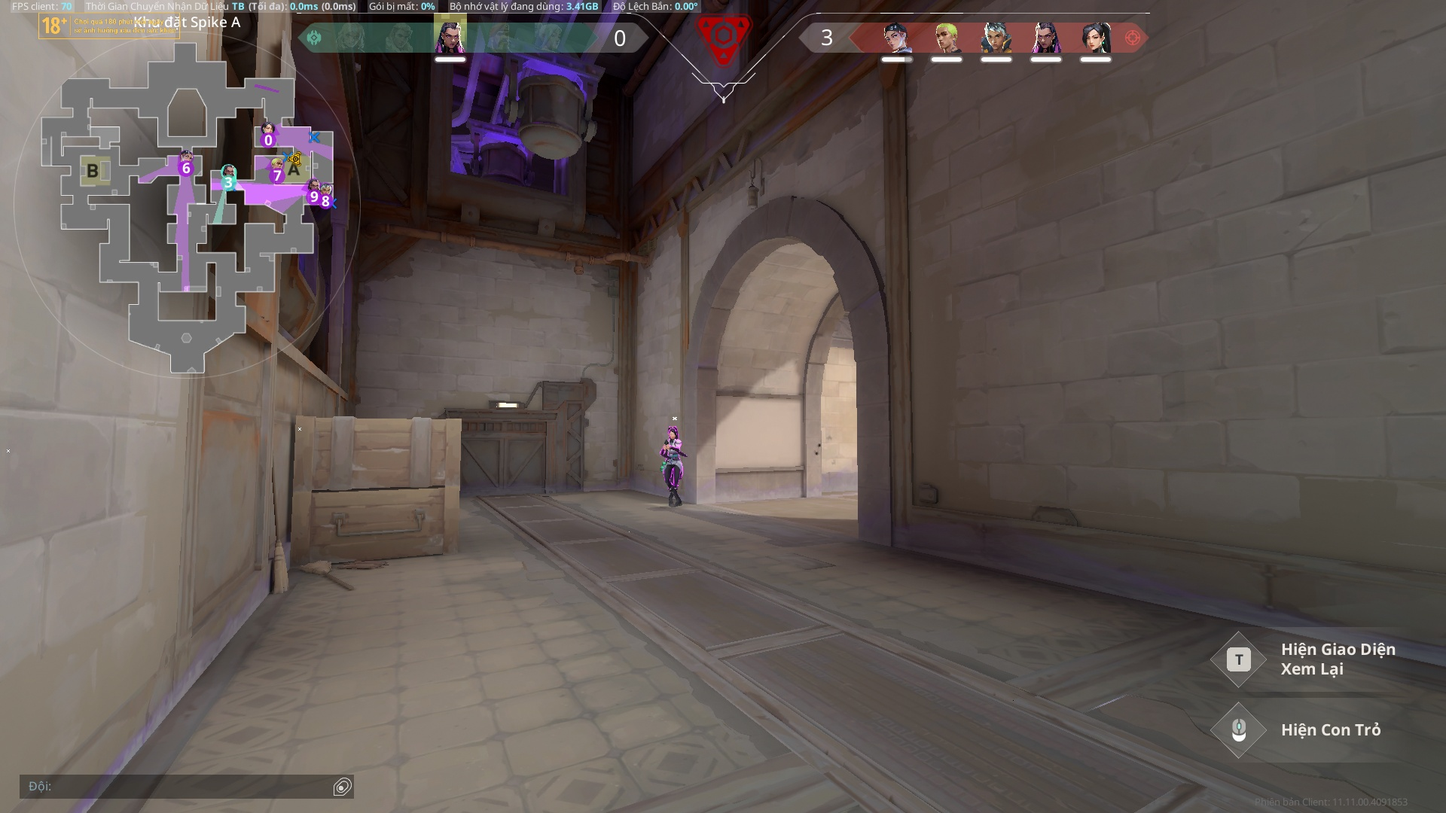body: (662, 440, 682, 464)
head: (666, 426, 679, 440)
